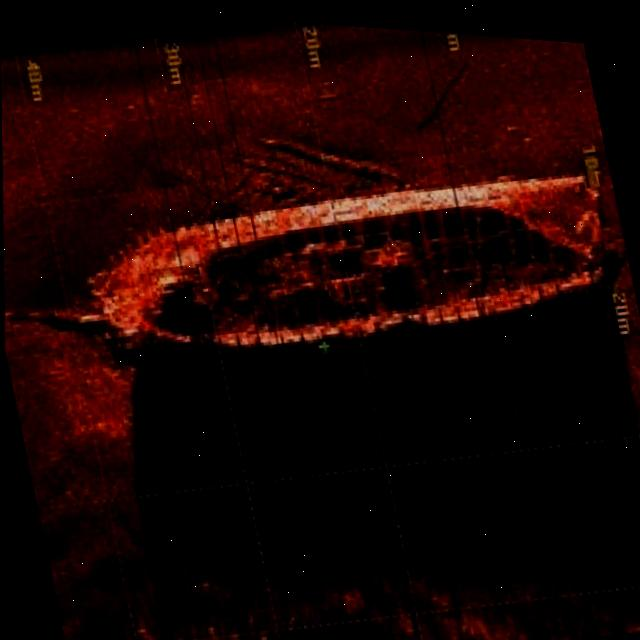shipwreck: (66, 120, 626, 401)
